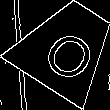O_NE: (34, 15, 100, 80)
